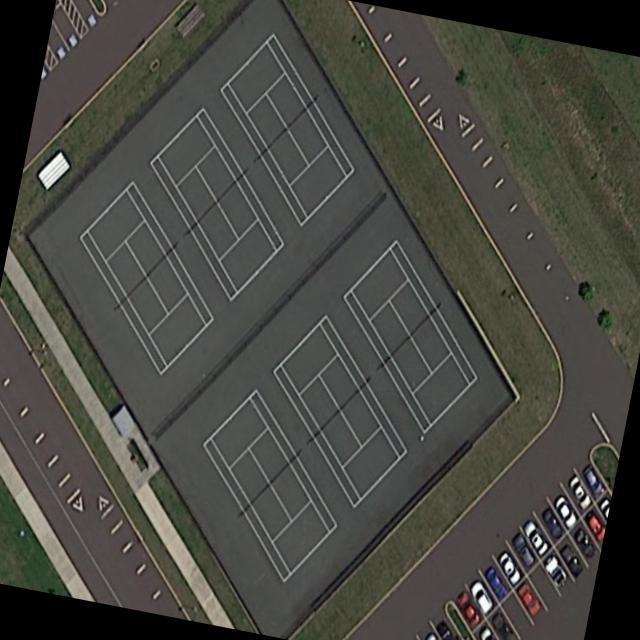small-vehicle: (522, 516, 551, 558), (455, 589, 484, 629), (469, 577, 497, 617), (516, 578, 544, 618), (541, 551, 570, 588), (497, 548, 524, 585), (511, 533, 538, 570), (581, 463, 608, 500), (560, 541, 586, 579), (484, 565, 511, 601), (568, 474, 594, 510), (489, 607, 516, 640), (554, 492, 578, 529), (573, 525, 598, 560), (541, 506, 565, 541), (433, 614, 460, 640), (585, 507, 604, 539), (479, 626, 497, 640), (424, 629, 442, 640)
